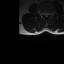CCS_normal: (45, 11, 47, 19)
LFS_normal: (49, 11, 51, 16)
LLS_normal: (47, 11, 49, 17)
RFS_normal: (42, 11, 44, 16)
RLS_normal: (44, 11, 45, 17)
